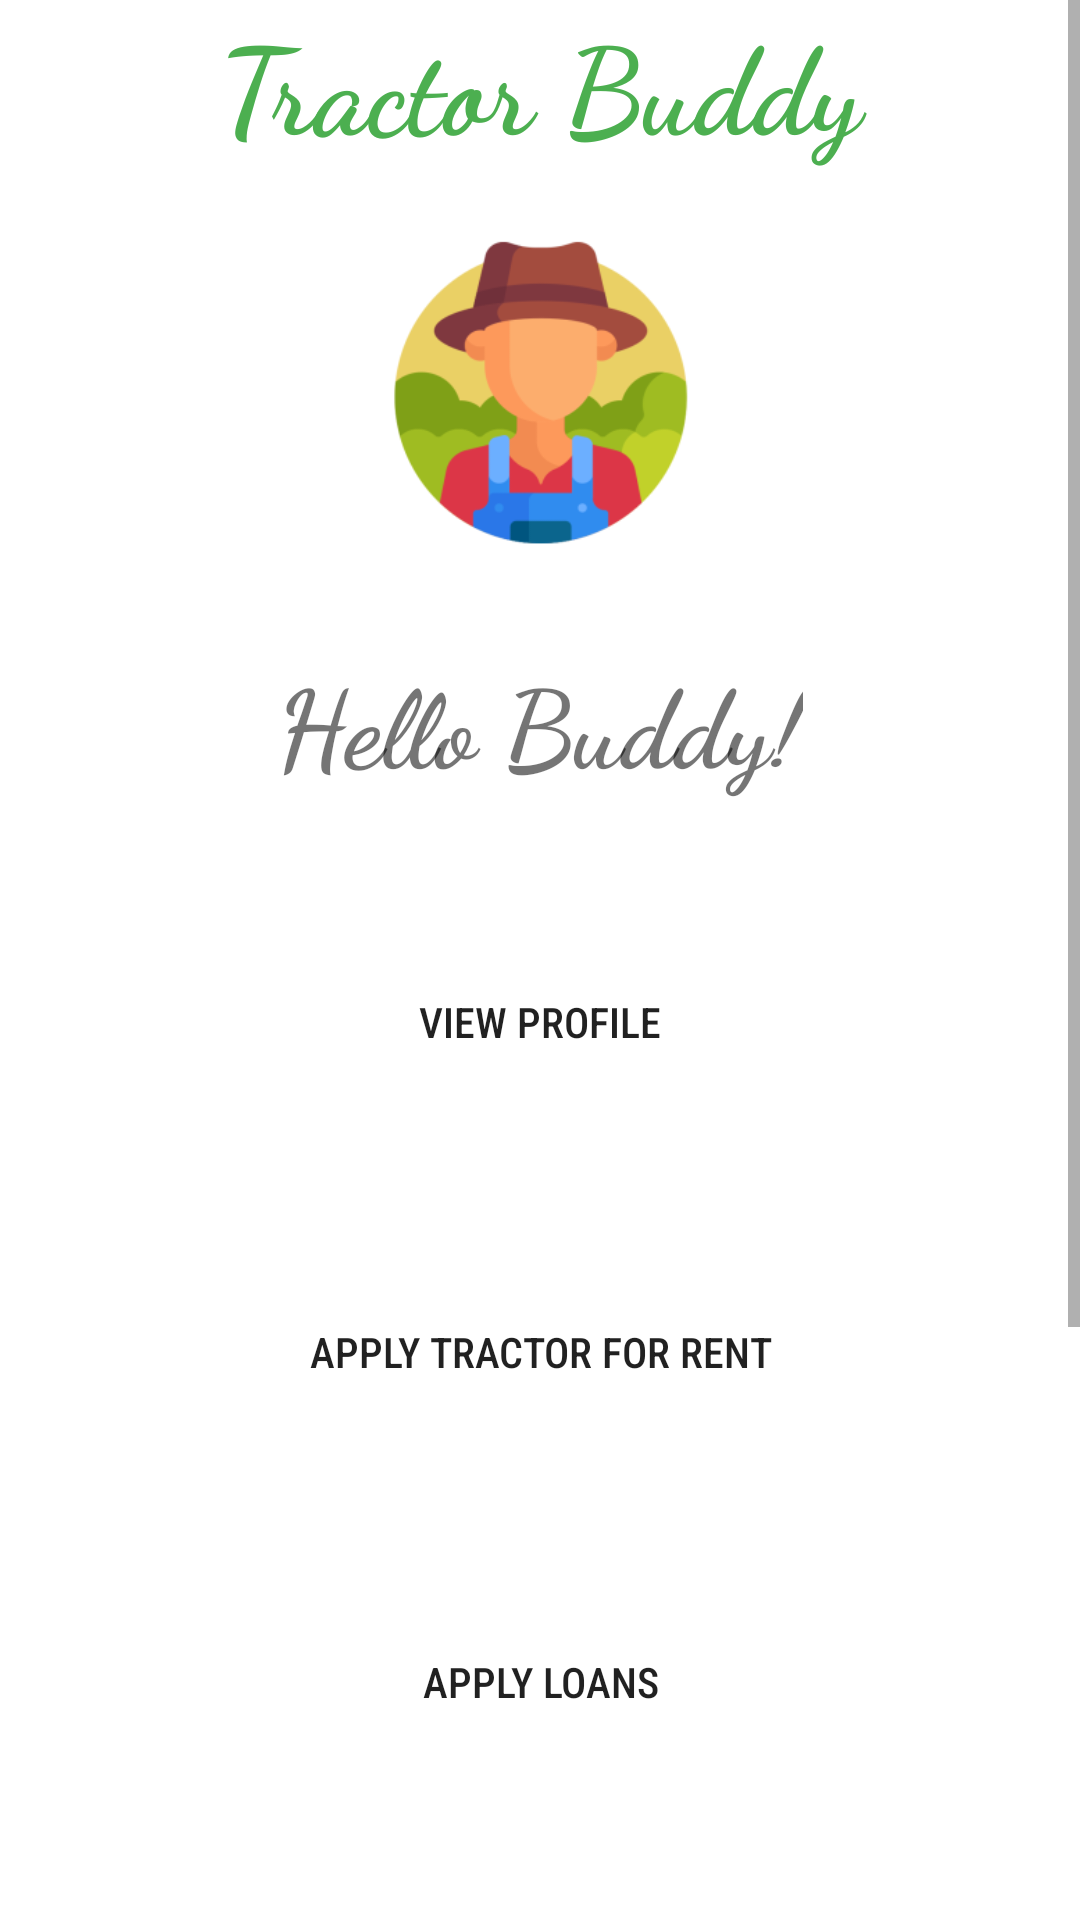

Where to tap for icons on this 1080w x 1920h app screen, as (x=x, y=y):
farmerimg: (x=541, y=392)
